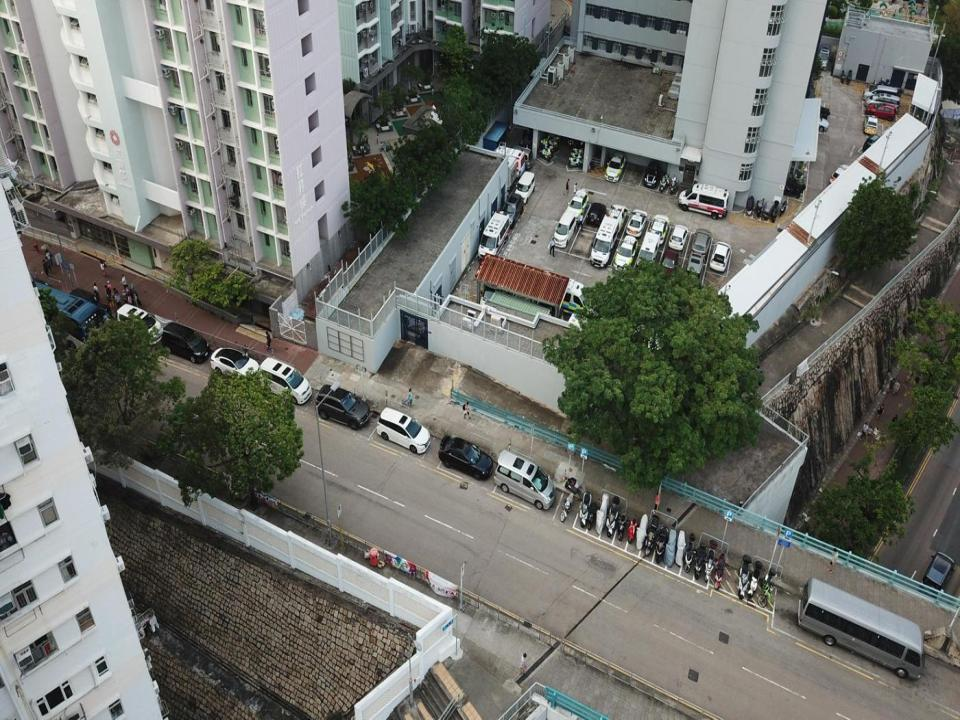bus: (796, 577, 924, 680), (16, 278, 112, 364)
car: (438, 435, 493, 481), (316, 384, 370, 430), (210, 346, 259, 385), (613, 235, 638, 272), (564, 190, 588, 222), (658, 248, 678, 284), (690, 228, 712, 260), (606, 205, 628, 234), (626, 209, 648, 238), (709, 243, 731, 272), (800, 112, 829, 134), (604, 152, 625, 182), (648, 214, 669, 244), (668, 225, 688, 250), (829, 164, 851, 186), (585, 203, 606, 226), (643, 160, 660, 188), (864, 114, 878, 134)
van: (494, 449, 555, 510), (260, 356, 312, 405), (376, 407, 430, 452), (542, 276, 596, 320), (117, 302, 163, 346), (162, 320, 210, 362), (68, 287, 112, 331), (677, 183, 729, 220), (478, 210, 509, 264), (920, 552, 955, 597), (590, 214, 619, 268), (635, 228, 660, 279), (487, 145, 524, 178), (553, 209, 576, 247), (684, 252, 704, 294), (862, 84, 898, 107), (501, 192, 523, 228), (513, 170, 535, 205), (502, 145, 532, 170), (865, 93, 900, 114), (863, 134, 883, 156), (816, 44, 830, 70)
